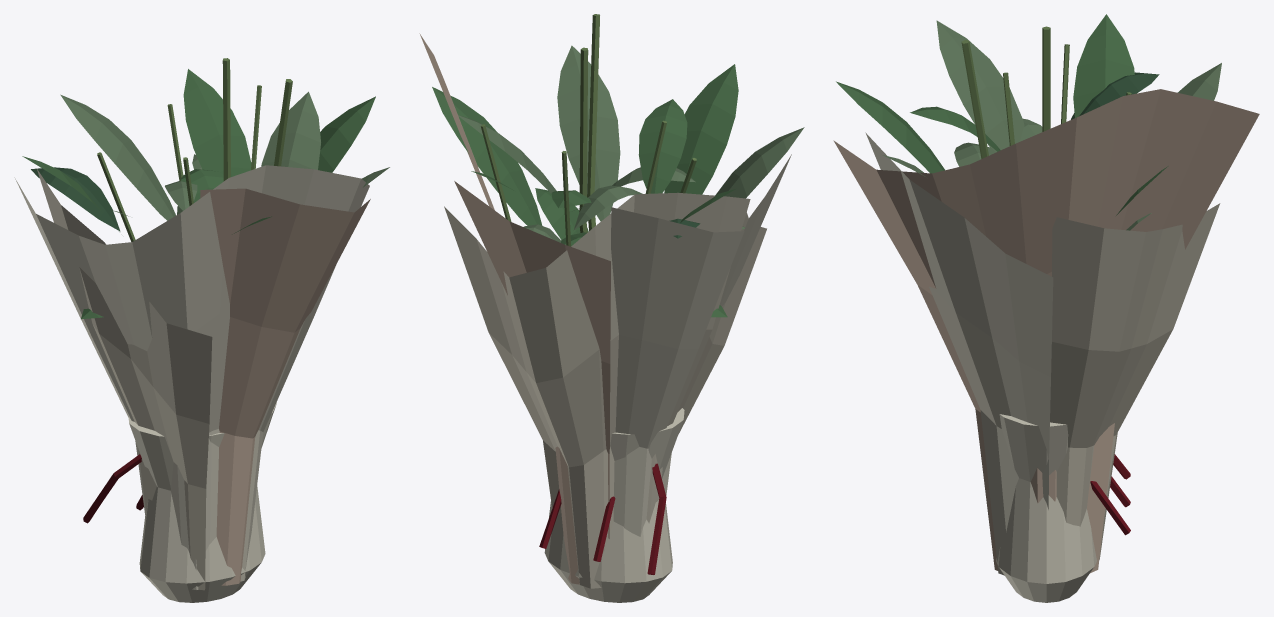
The model's file is blueWrap.glb.
3 views of the same model, side by side, from view 1: azimuth 30°, elevation 25°; view 2: azimuth 150°, elevation 25°; view 3: azimuth 270°, elevation 25° (orthographic). The views are drawn at different scales.
Parts seen in each view (by area): view 1: blueWrap; view 2: blueWrap; view 3: blueWrap.
Boxes of the visible parts, left/top/right/bottom form: blueWrap: left=14, top=58, right=389, bottom=602; blueWrap: left=419, top=14, right=804, bottom=602; blueWrap: left=833, top=14, right=1259, bottom=602.
Size of the model in its own units: 0.3082 by 0.4715 by 0.3208.
